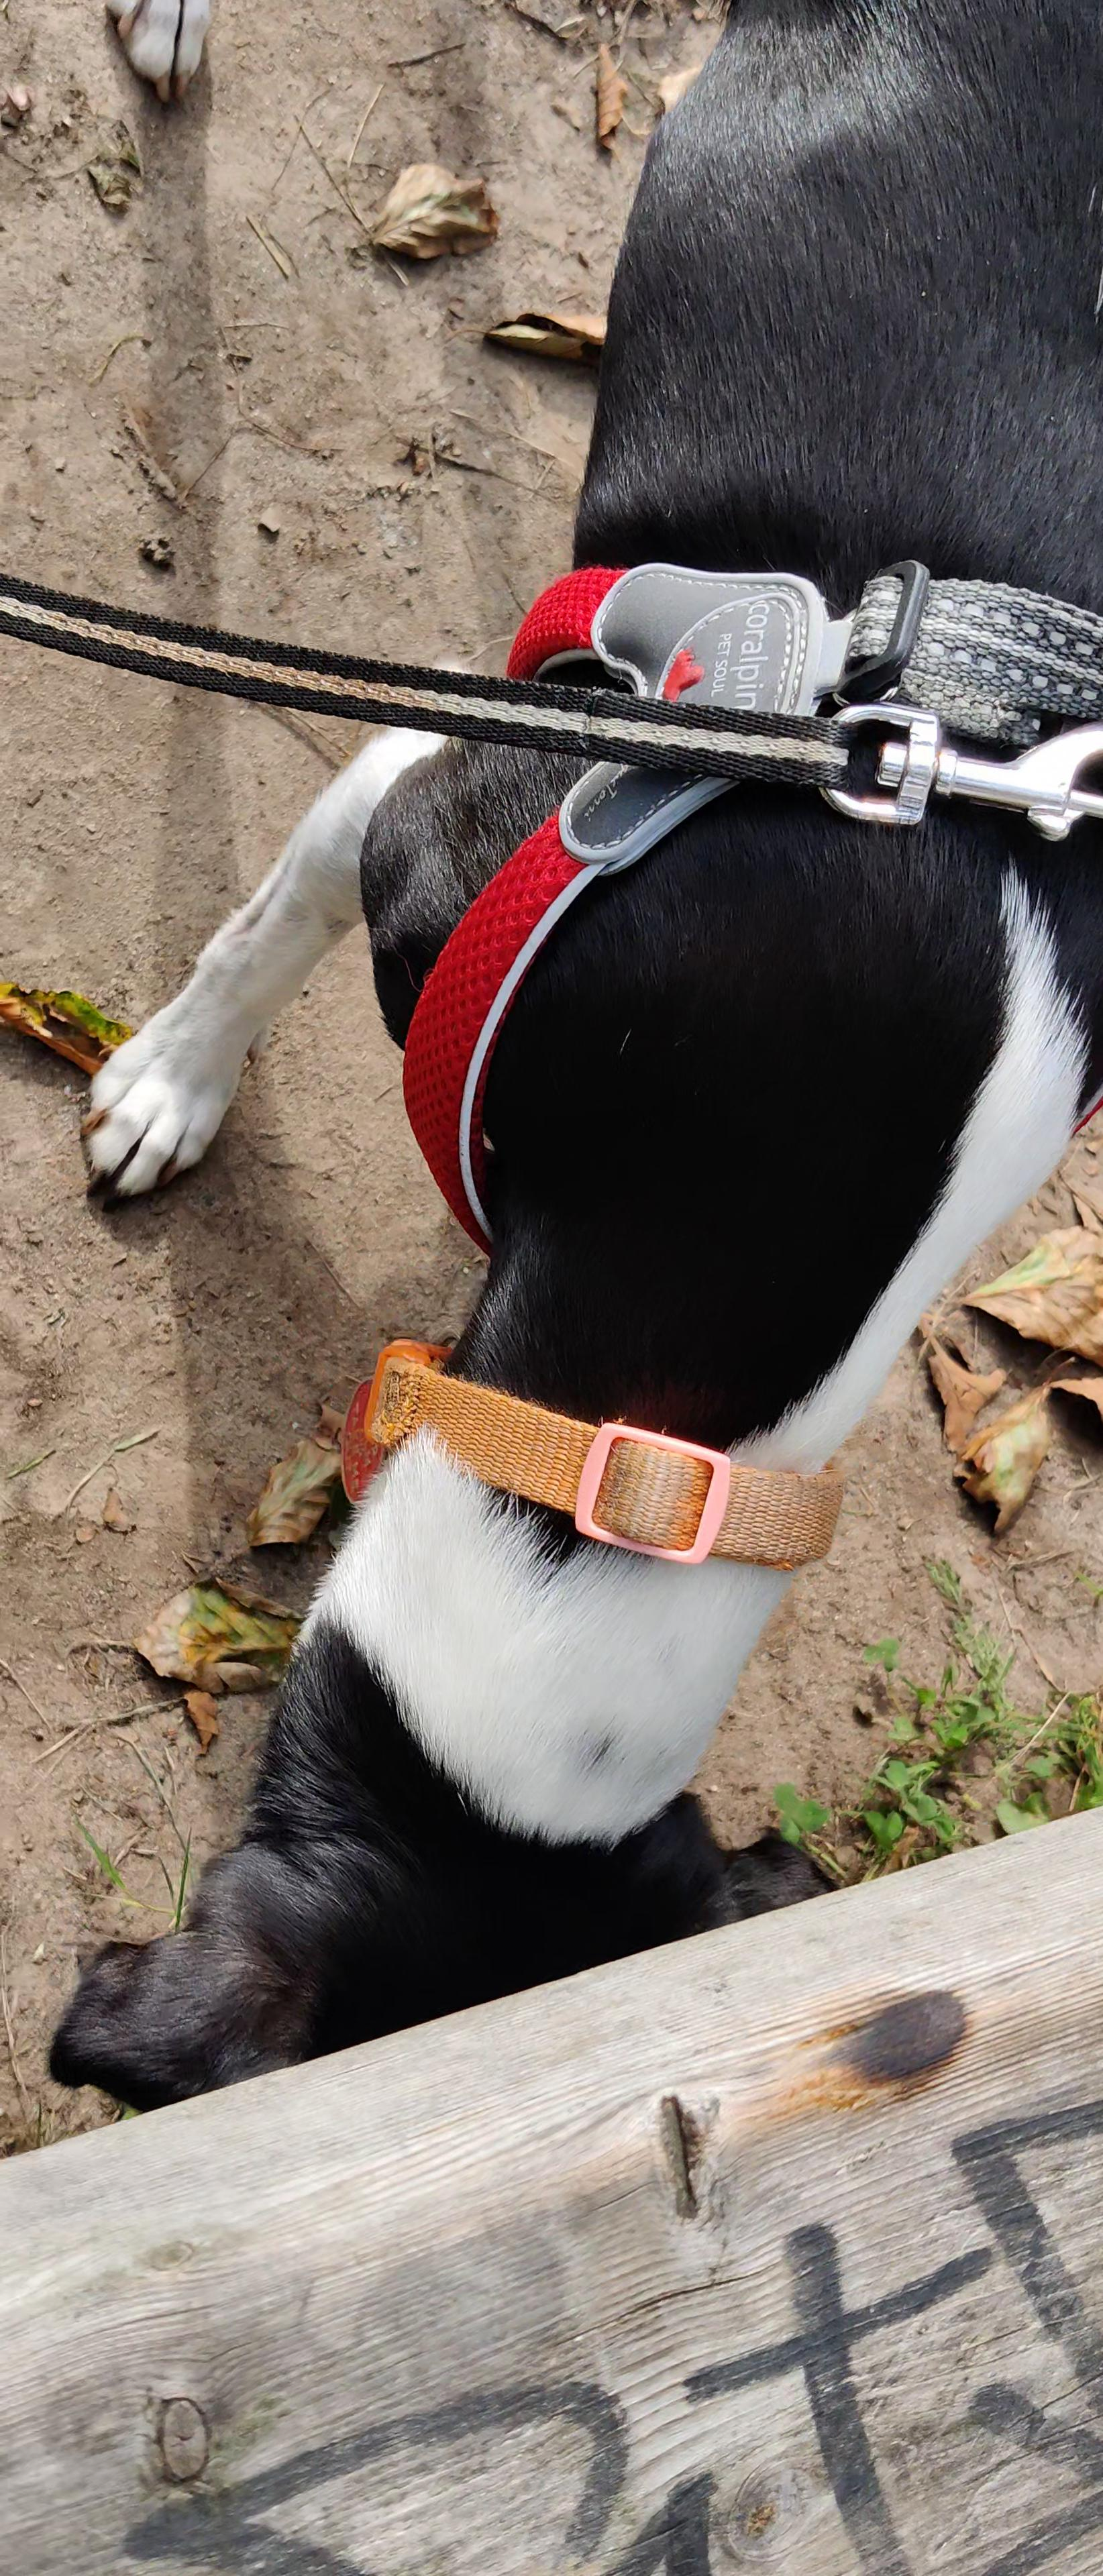Dog: (35, 0, 1103, 2229)
